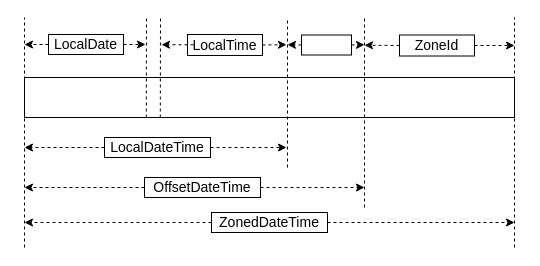
Some shapes in this 540 by 266 pixel diagram are drawn without their labels. The centre of each missing label's shape, as x and y in pixels:
"2007-12-03T10:15:30.999+01:00 [Europe/Paris]" goes at (x=269, y=97).
"ZoneOffset" goes at (x=326, y=44).
